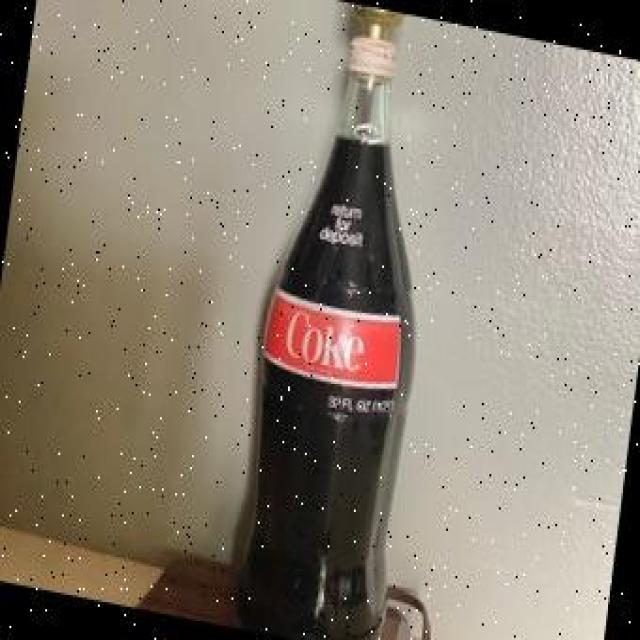coca-cola: (224, 0, 469, 640)
